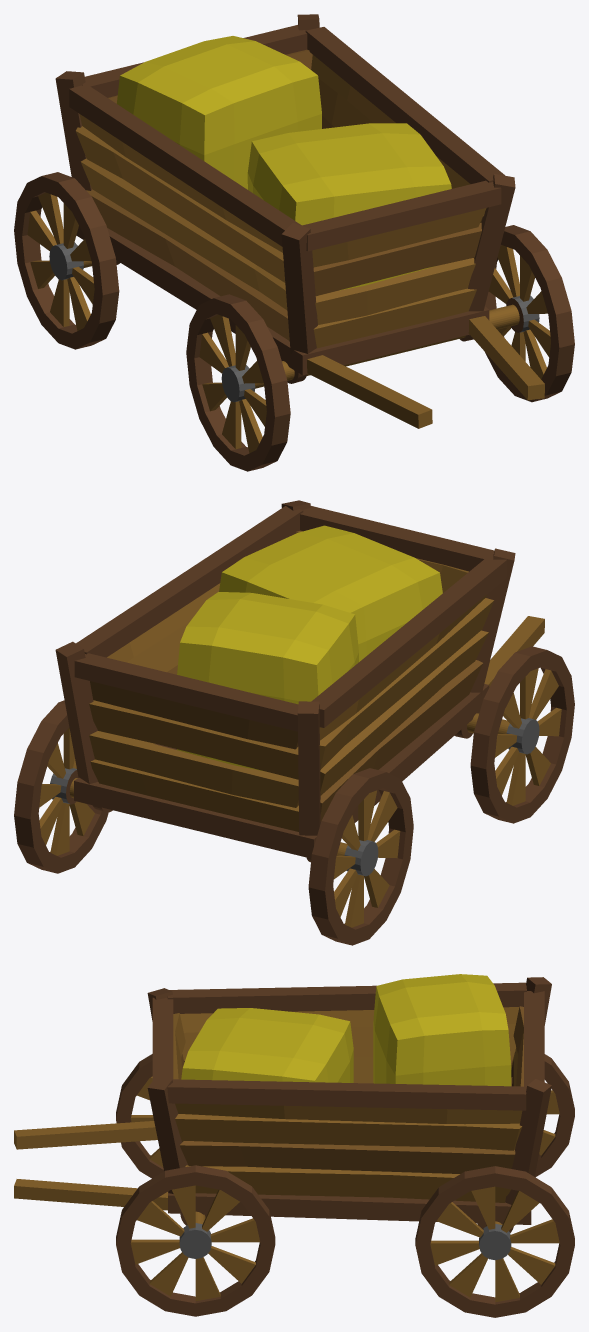
The model's file is povoska.fbx.
3 views of the same model, one above another, from view 1: azimuth 30°, elevation 25°; view 2: azimuth 150°, elevation 25°; view 3: azimuth 270°, elevation 25° (orthographic). The views are drawn at different scales.
Visible parts, largest first — view 1: Cylinder.002; view 2: Cylinder.002; view 3: Cylinder.002.
Part boxes in pixels (bbox=[...]): Cylinder.002: bbox=[14, 14, 574, 471]; Cylinder.002: bbox=[14, 500, 574, 945]; Cylinder.002: bbox=[14, 974, 574, 1317].
Bounding box in the file's own units: 178 × 146 × 309.
